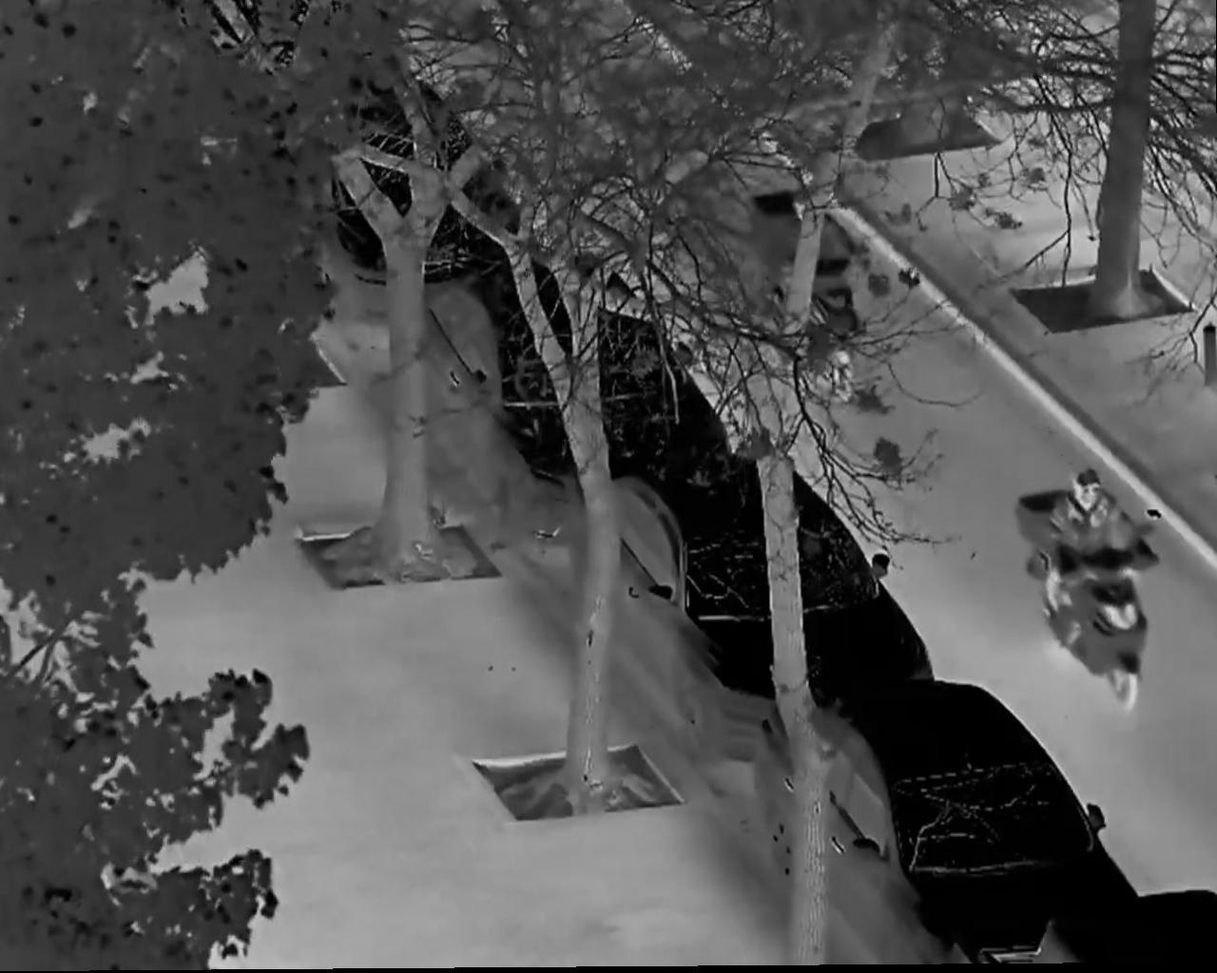person: (1046, 467, 1155, 635)
